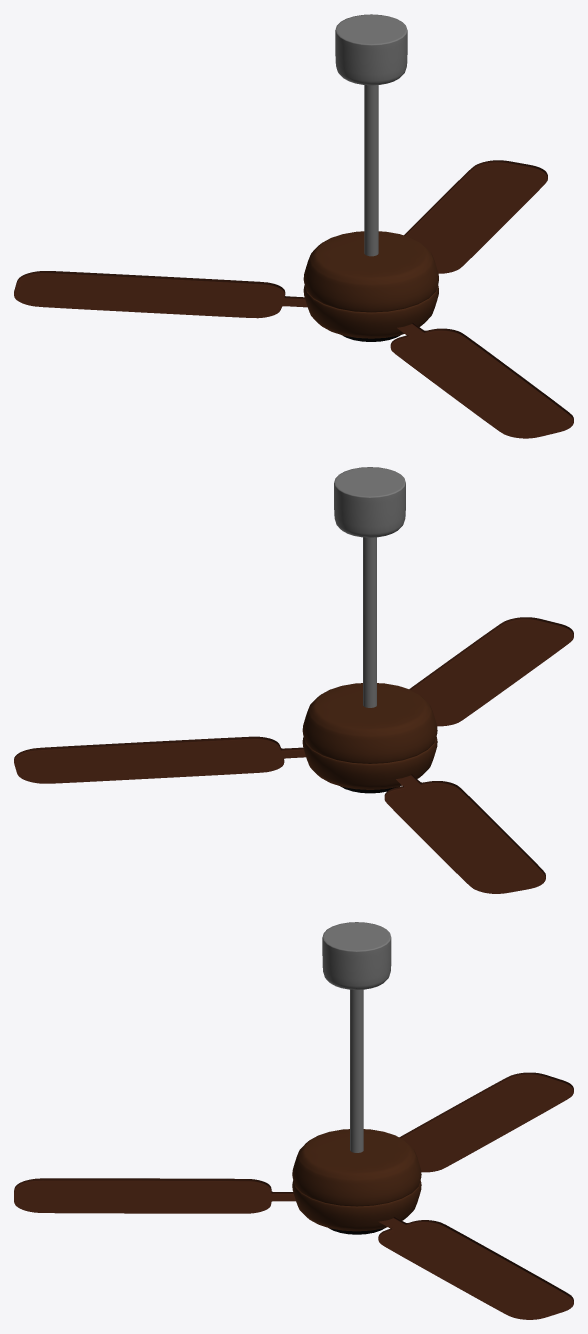
3 views of the same model, one above another, from view 1: azimuth 30°, elevation 25°; view 2: azimuth 150°, elevation 25°; view 3: azimuth 270°, elevation 25° (orthographic). The views are drawn at different scales.
Parts seen in each view (by area): view 1: CylinderFBXASC046004; view 2: CylinderFBXASC046004; view 3: CylinderFBXASC046004.
Part boxes in pixels (<box>): CylinderFBXASC046004: <box>14,14,573,438</box>; CylinderFBXASC046004: <box>14,467,573,893</box>; CylinderFBXASC046004: <box>14,922,573,1319</box>.
Bounding box in the file's own units: 32.01 × 17.79 × 30.89.
